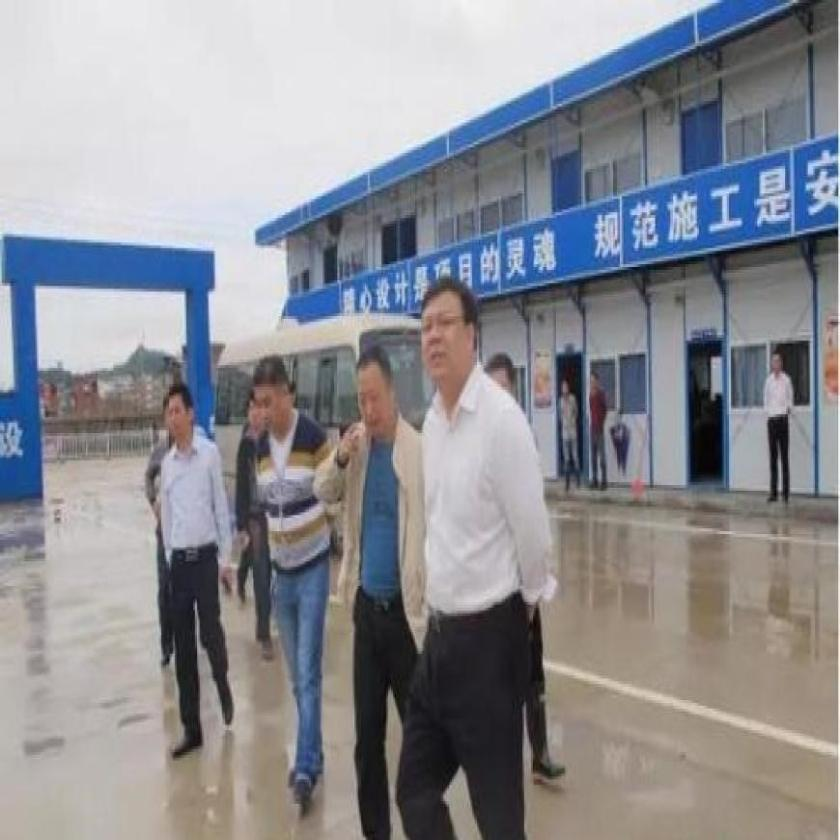Sin_casco: (421, 274, 479, 401), (353, 348, 402, 442), (248, 352, 292, 432), (167, 385, 199, 440)
